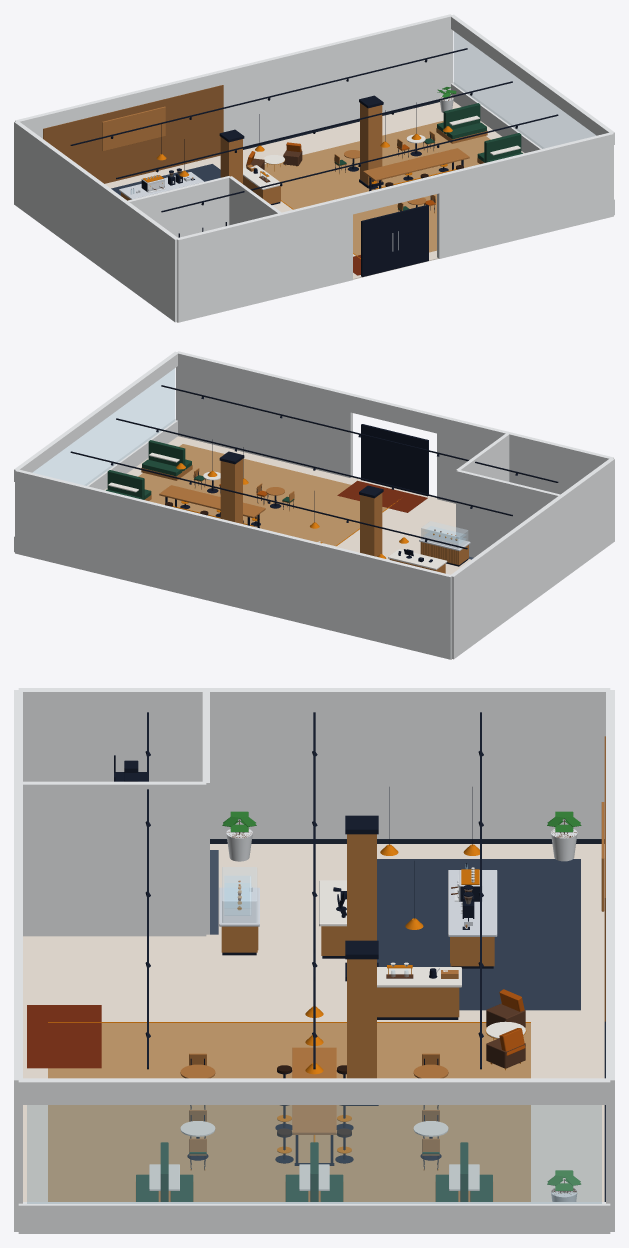
Rendered from ShiftSync_CoffeeShop_DigitalTwin.glb.
3 renders of one model, top to bottom at view 1: azimuth 30°, elevation 25°; view 2: azimuth 150°, elevation 25°; view 3: azimuth 270°, elevation 25°, orthographic. The views are drawn at different scales.
Parts seen in each view (by area): view 1: Wall_North_Solid, Wall_South_Right, Wall_South_Left, Wall_West_Solid, Acoustic_Slat_FeatureWall, Zone_Dining_Floor, Wall_East_GlassPanels, Main_Floor_Plinth, Entrance_Door_Frame, Partition_Storage_South, Wall_East_Header, Menu_Oak_Frame (+14 smaller); view 2: Wall_North_Solid, Wall_South_Right, Wall_West_Solid, Zone_Dining_Floor, Wall_South_Left, Wall_East_GlassPanels, Partition_Storage_South, Main_Floor_Plinth, Entrance_Door_Frame, Wall_East_Header, Wall_South_TransomHeader, Partition_Storage_East (+14 smaller); view 3: Wall_West_Solid, Wall_East_GlassPanels, Zone_Dining_Floor, Main_Floor_Plinth, Partition_Storage_East, Zone_Barista_Floor, Wall_East_LowerPlinth, Wall_East_Header, Store_Entrance_Mat, Wall_North_Solid, Col2_OakShaft, Col1_OakShaft (+19 smaller).
Boxes of the visible parts, box(x1,y1,x2,y2) form: Wall_North_Solid: box(15, 14, 452, 146); Wall_South_Right: box(437, 132, 613, 258); Wall_South_Left: box(177, 196, 352, 322); Wall_West_Solid: box(14, 121, 178, 322); Acoustic_Slat_FeatureWall: box(43, 85, 223, 183); Zone_Dining_Floor: box(264, 120, 490, 255); Wall_East_GlassPanels: box(454, 31, 595, 148); Main_Floor_Plinth: box(105, 101, 524, 322); Entrance_Door_Frame: box(361, 204, 428, 277); Partition_Storage_South: box(128, 176, 229, 237); Wall_East_Header: box(450, 14, 614, 144); Menu_Oak_Frame: box(102, 106, 165, 151); Wall_North_Solid: box(15, 469, 452, 659); Wall_South_Right: box(176, 351, 352, 477); Wall_West_Solid: box(451, 458, 614, 659); Zone_Dining_Floor: box(138, 444, 386, 545); Wall_South_Left: box(437, 415, 613, 503); Wall_East_GlassPanels: box(33, 368, 174, 485); Partition_Storage_South: box(456, 470, 560, 557); Main_Floor_Plinth: box(104, 436, 470, 659); Entrance_Door_Frame: box(361, 424, 428, 496); Wall_East_Header: box(14, 351, 178, 481); Wall_South_TransomHeader: box(350, 394, 438, 433); Partition_Storage_East: box(456, 433, 509, 537); Wall_West_Solid: box(18, 688, 610, 838); Wall_East_GlassPanels: box(27, 1105, 601, 1203); Zone_Dining_Floor: box(48, 1023, 530, 1201); Main_Floor_Plinth: box(23, 844, 604, 1201); Partition_Storage_East: box(23, 781, 206, 936); Zone_Barista_Floor: box(377, 859, 580, 1010); Wall_East_LowerPlinth: box(18, 1202, 610, 1233); Wall_East_Header: box(18, 1078, 610, 1104); Store_Entrance_Mat: box(27, 1005, 101, 1068); Wall_North_Solid: box(606, 690, 614, 1231); Col2_OakShaft: box(347, 959, 376, 1078); Col1_OakShaft: box(347, 834, 376, 940).
Bounding box in the file's own units: 22.42 × 4.06 × 14.44.
